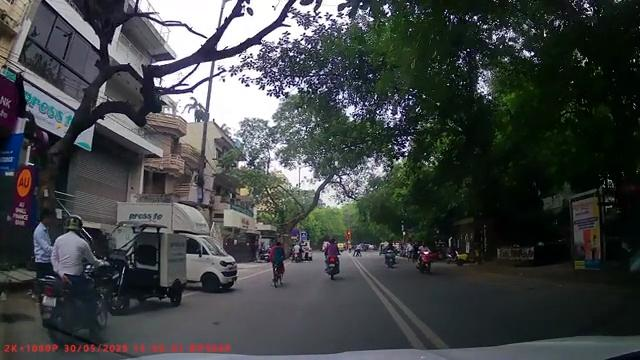motorcycle_with_helmet: (37, 214, 110, 343), (324, 237, 341, 281)
